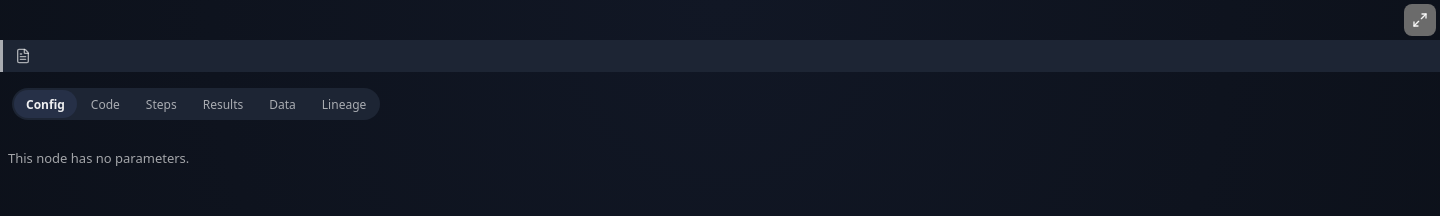
Test: Results tab renders the selected node's OUT-port payloads
The image size is (1440, 216).
Click the button with test id "inspector-tab-results".
click(223, 104)  # box [191,90,255,118]
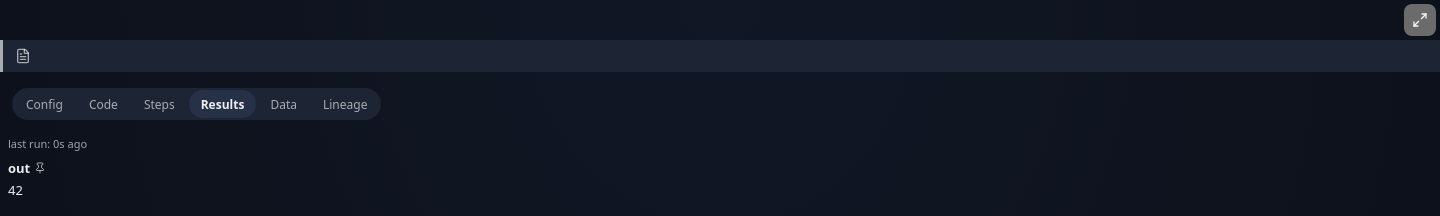
Expected: the element with test id "results-list" is shown, [8,136,87,199]
Expected: the text with test id "payload-scalar" reads "42", [8,181,23,199]
Expected: the text with test id "results-last-run" shows "ago", [53,136,87,151]
